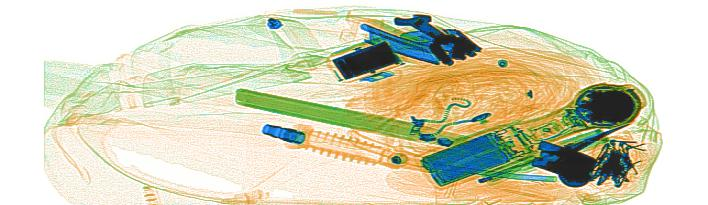battery: (418, 131, 515, 187)
knife: (352, 19, 450, 67)
